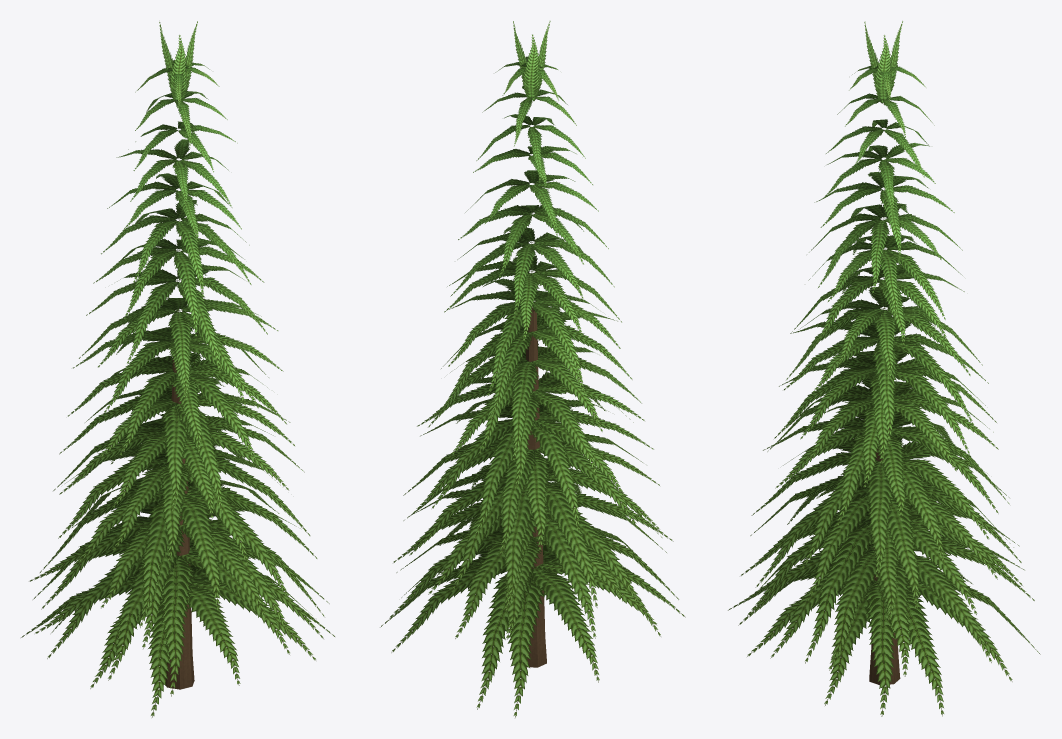
File: fir2_a.glb
3 renders of one model, left to right at view 1: azimuth 30°, elevation 25°; view 2: azimuth 150°, elevation 25°; view 3: azimuth 270°, elevation 25°, orthographic. The views are drawn at different scales.
Parts seen in each view (by area): view 1: fir2_a; view 2: fir2_a; view 3: fir2_a.
Boxes of the visible parts, bbox=[...] form: fir2_a: bbox=[21, 21, 334, 717]; fir2_a: bbox=[380, 21, 685, 717]; fir2_a: bbox=[728, 21, 1040, 716].
Bounding box in the file's own units: 3.22 × 7.14 × 3.23.
Materials: 2 (2 with a texture image).
